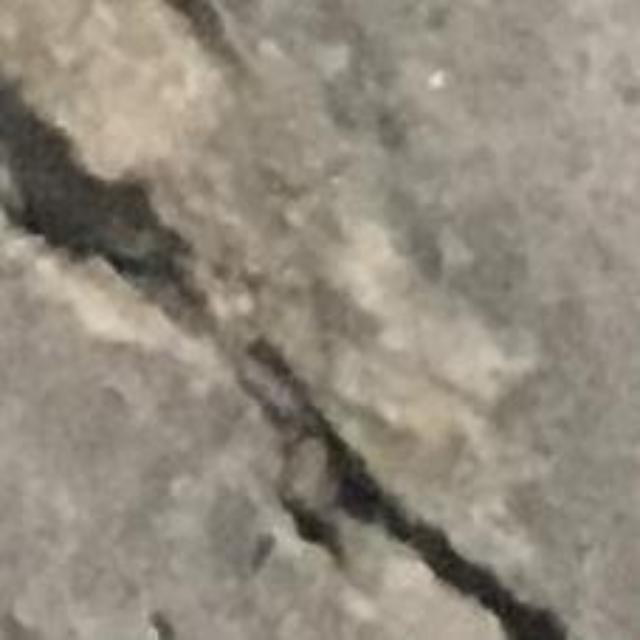crack: (0, 79, 566, 639), (65, 203, 640, 640)
